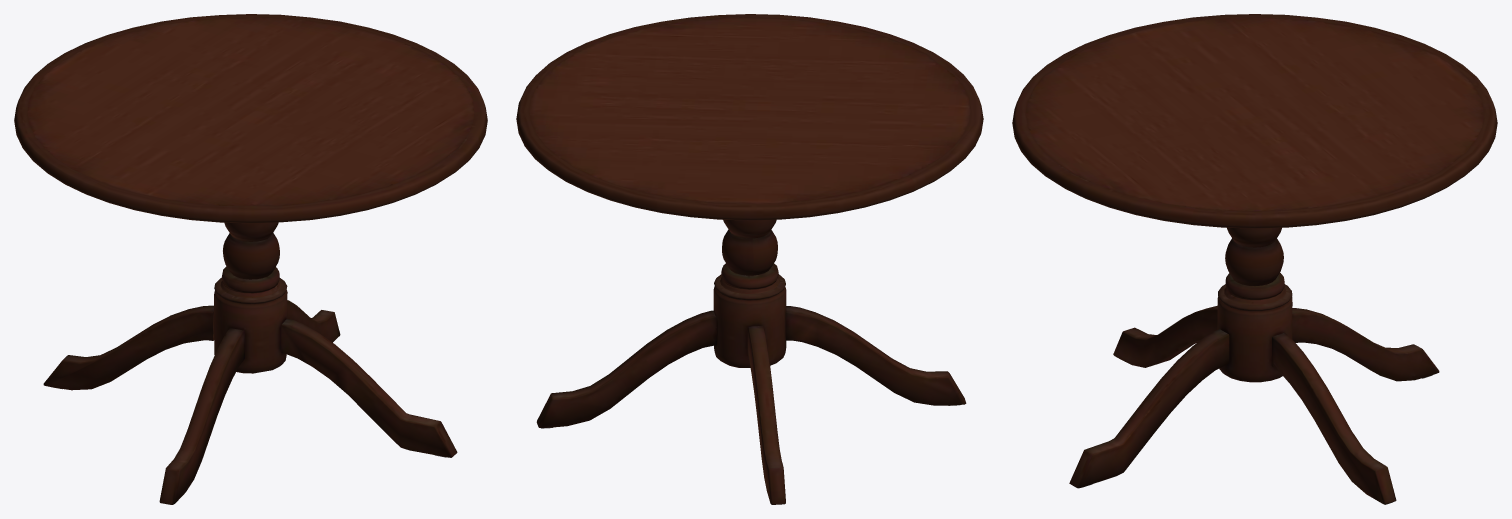
Rendered from roundtable.glb.
3 views of the same model, side by side, from view 1: azimuth 30°, elevation 25°; view 2: azimuth 150°, elevation 25°; view 3: azimuth 270°, elevation 25° (orthographic). The views are drawn at different scales.
Visible parts, largest first — view 1: round_wooden_table_01_round_wooden_table_01_0; view 2: round_wooden_table_01_round_wooden_table_01_0; view 3: round_wooden_table_01_round_wooden_table_01_0.
Boxes of the visible parts, bbox=[...] form: round_wooden_table_01_round_wooden_table_01_0: bbox=[14, 14, 487, 504]; round_wooden_table_01_round_wooden_table_01_0: bbox=[516, 14, 983, 504]; round_wooden_table_01_round_wooden_table_01_0: bbox=[1012, 14, 1497, 504].
Size of the model in its own units: 1.4 by 1 by 1.4.
Materials: 1 (1 with a texture image).
